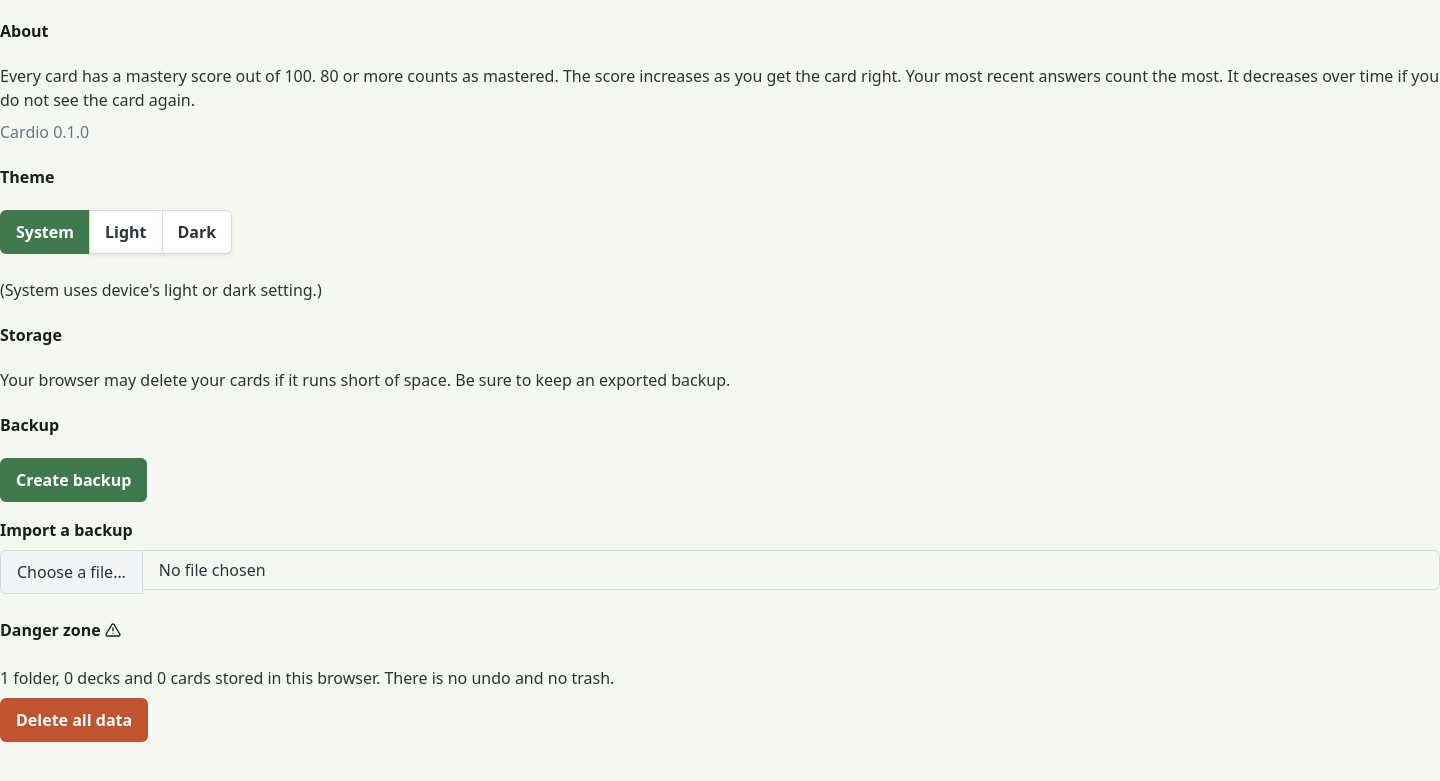
Scenario: SettingsView › the danger zone › leaves an empty library once the confirmation is typed
Step 1. Click the button with test id "delete-all" → [74, 720], box x1=0 y1=698 x2=148 y2=742
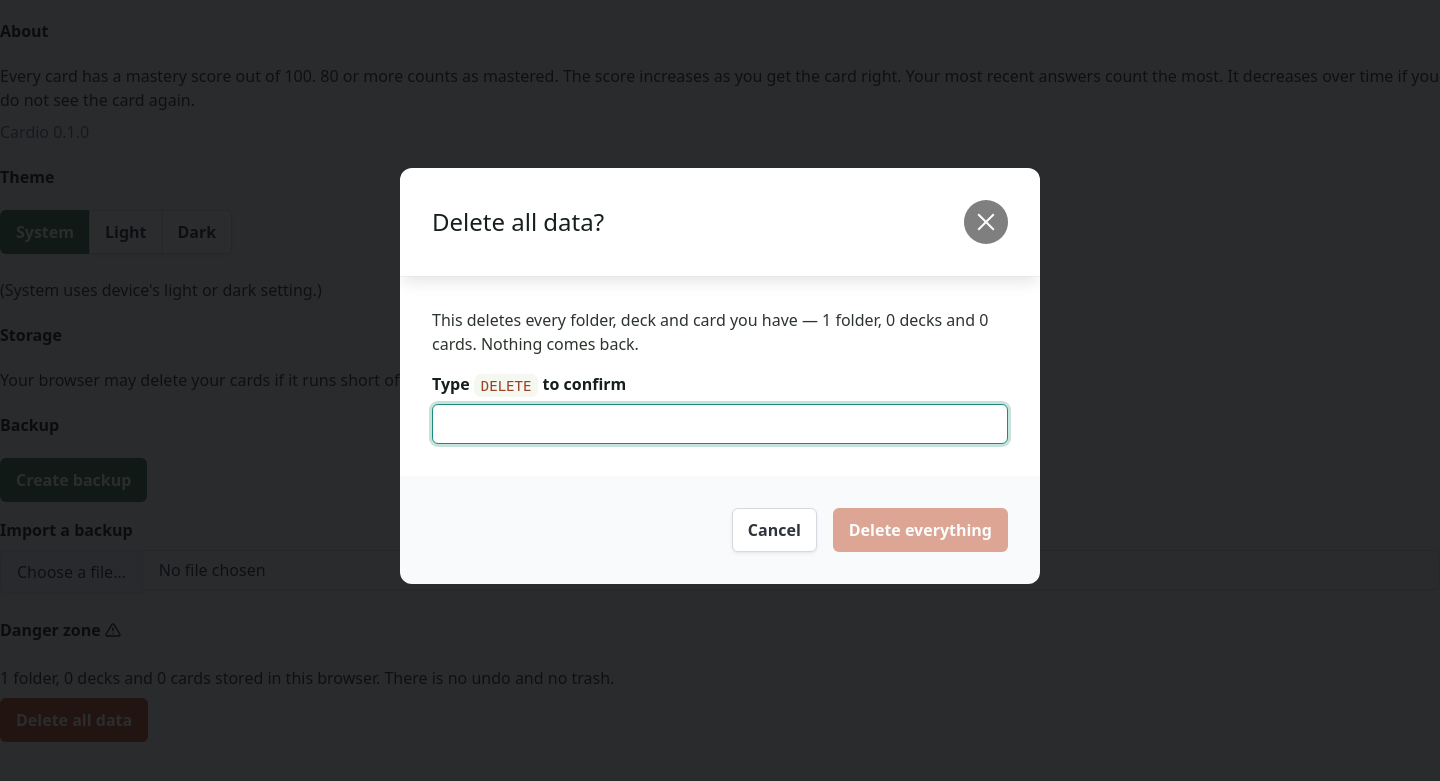
Step 2. Type "DELETE" into the field with test id "typed-confirm-input" → [720, 424], box x1=432 y1=404 x2=1008 y2=444
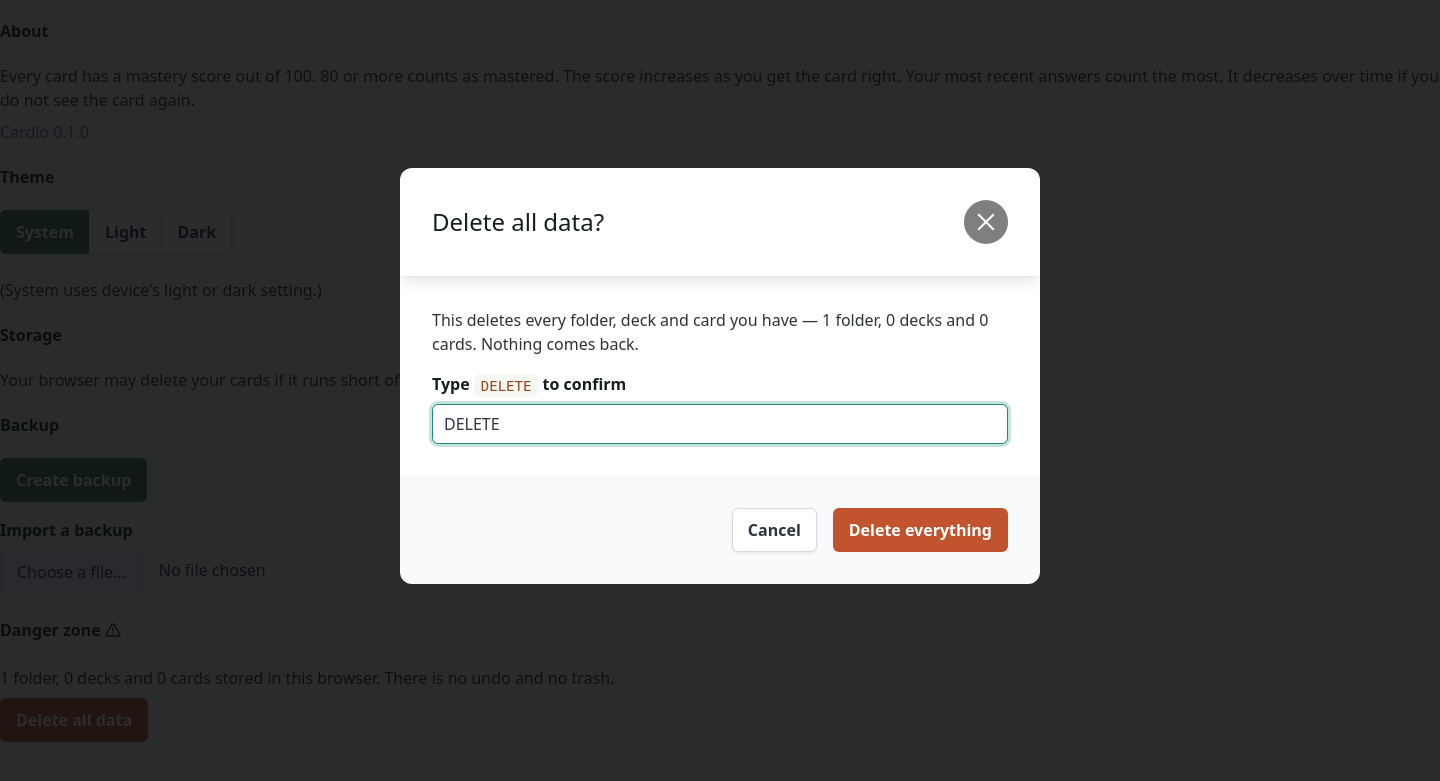
Step 3. Click the button with test id "typed-confirm-accept" → [920, 530], box x1=833 y1=508 x2=1008 y2=552
(page scrolled)
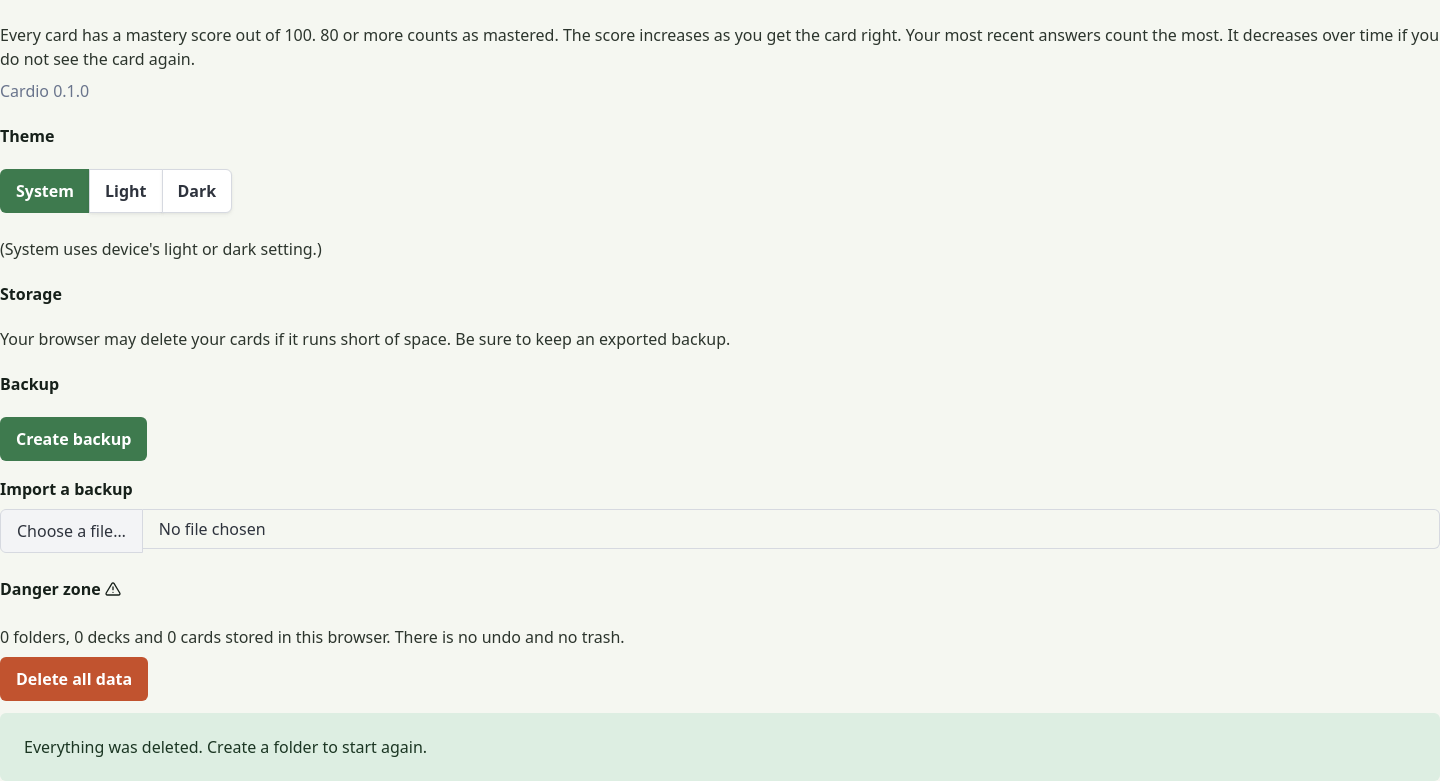
Expected: the text with test id "delete-report" reads "Everything was deleted. Create a folder to start again.", x1=24 y1=736 x2=427 y2=758
